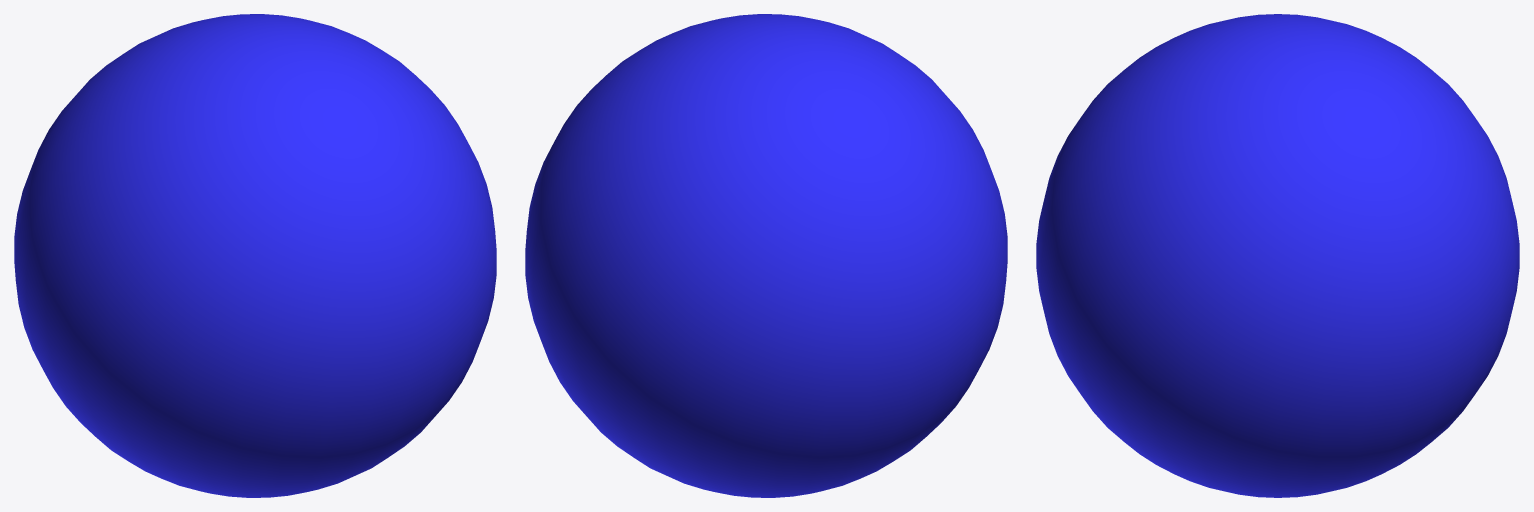
File: sphere_smooth_z.obj
The picture shows the model from 3 angles, left to right: view 1: azimuth 30°, elevation 25°; view 2: azimuth 150°, elevation 25°; view 3: azimuth 270°, elevation 25°; orthographic projection.
Parts seen in each view (by area): view 1: Sphere_Sphere.001; view 2: Sphere_Sphere.001; view 3: Sphere_Sphere.001.
Boxes of the visible parts, x1=… form: Sphere_Sphere.001: x1=14, y1=14, x2=496, y2=497; Sphere_Sphere.001: x1=525, y1=14, x2=1007, y2=497; Sphere_Sphere.001: x1=1036, y1=14, x2=1519, y2=497.
Size of the model in its own units: 2 by 2 by 2.
